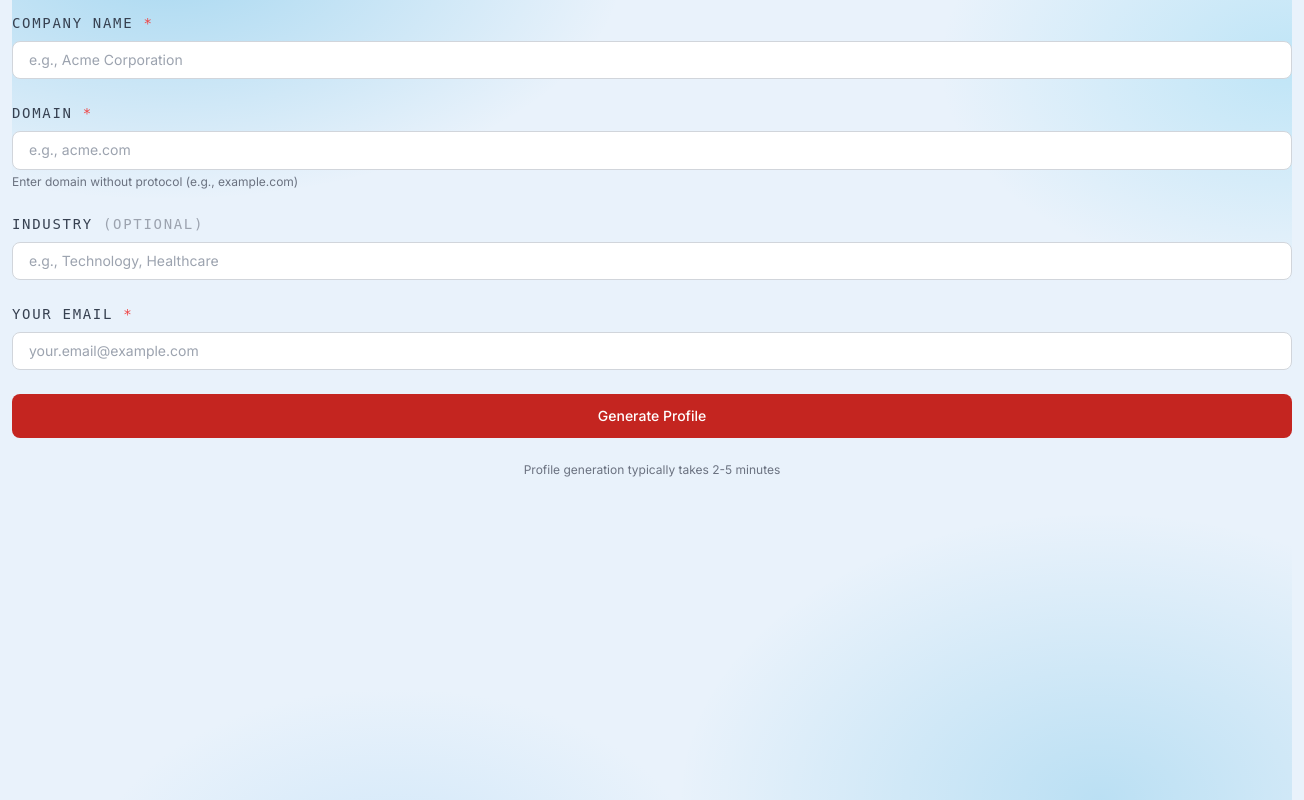
Test: ProfileRequestForm › should validate email format
The width and height of the screenshot is (1304, 800).
Type "invalid-email" into the field labelled "Your Email *" at (652, 351), box [12, 332, 1292, 370]
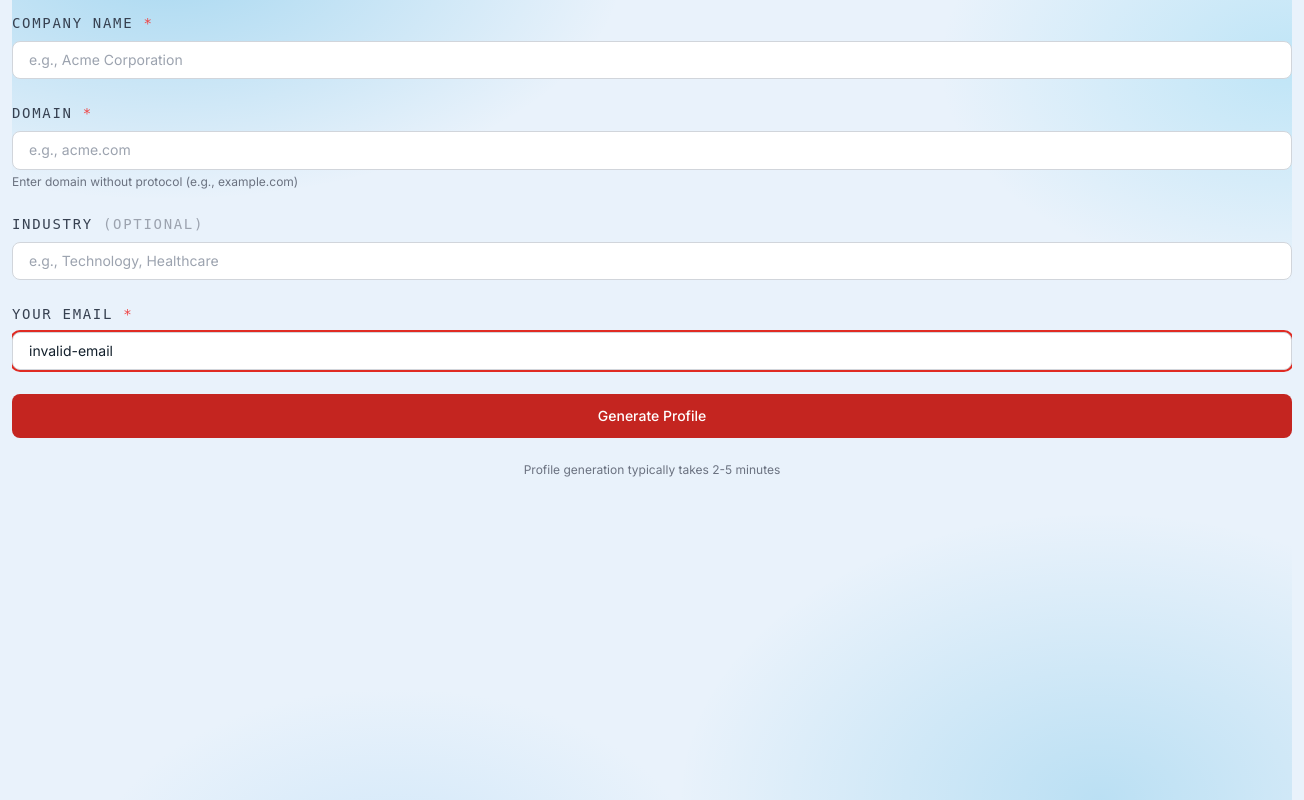
Press Tab
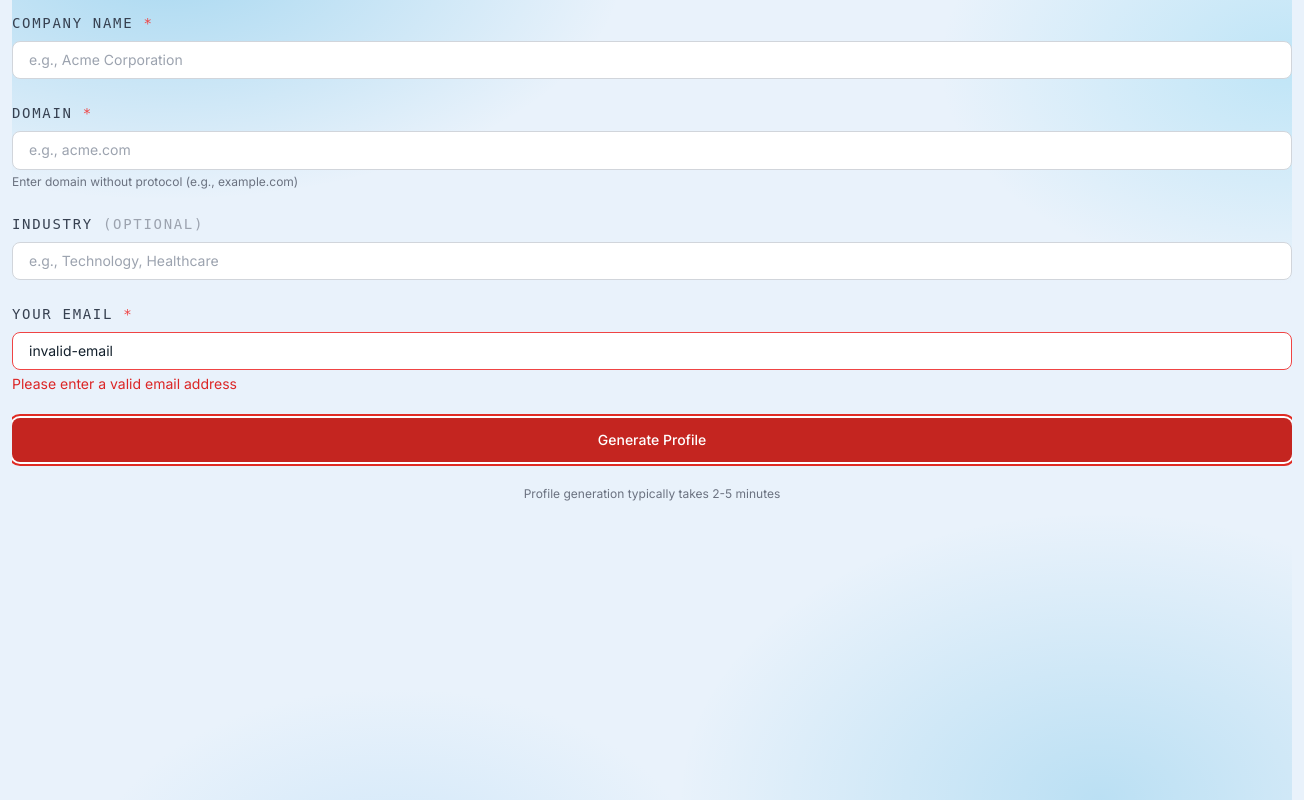
Check: the text "Please enter a valid email address" is shown, box [12, 375, 237, 392]
